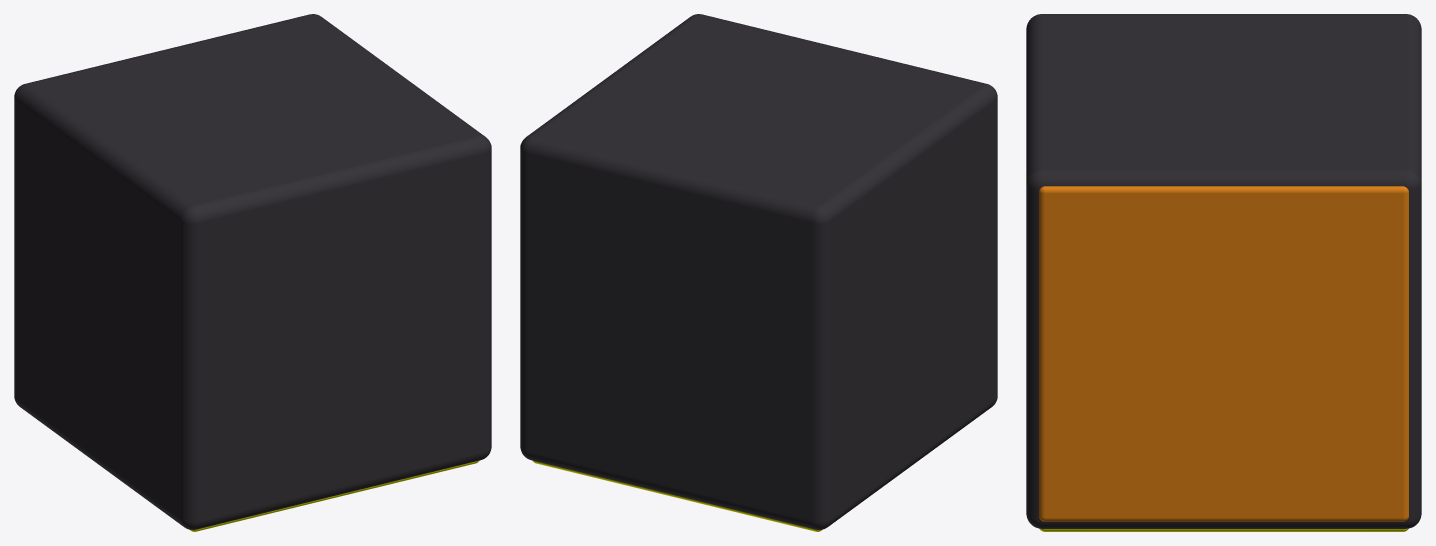
File: yoEdge.obj
3 renders of one model, left to right at view 1: azimuth 30°, elevation 25°; view 2: azimuth 150°, elevation 25°; view 3: azimuth 270°, elevation 25°, orthographic. The views are drawn at different scales.
Parts seen in each view (by area): view 1: 000_Base, 002_yellow; view 2: 000_Base, 002_yellow; view 3: 001_orange, 000_Base, 002_yellow.
Part boxes in pixels (left/top/right/bottom): 000_Base: left=14, top=14, right=491, bottom=529; 002_yellow: left=189, top=460, right=479, bottom=531; 000_Base: left=520, top=14, right=997, bottom=529; 002_yellow: left=532, top=460, right=822, bottom=531; 001_orange: left=1039, top=186, right=1408, bottom=521; 000_Base: left=1026, top=14, right=1421, bottom=528; 002_yellow: left=1039, top=528, right=1408, bottom=531.
Size of the model in its own units: 101 by 101 by 100.
